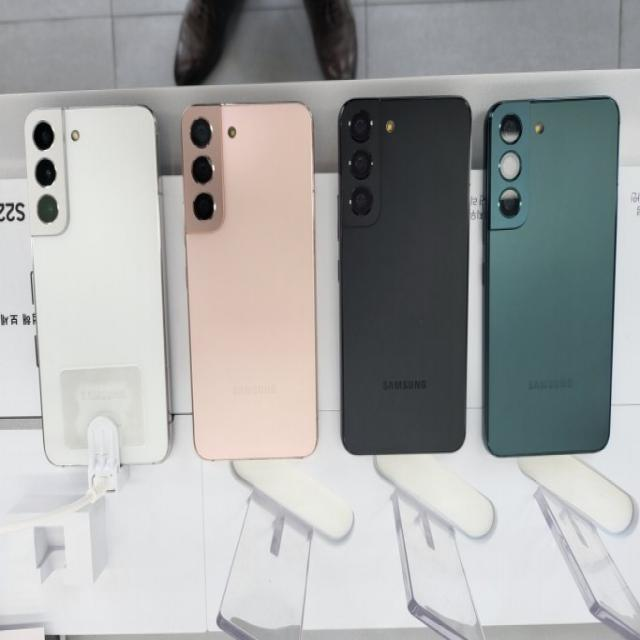phone: (21, 100, 169, 473), (481, 90, 624, 463), (182, 93, 322, 466), (340, 84, 470, 458)
